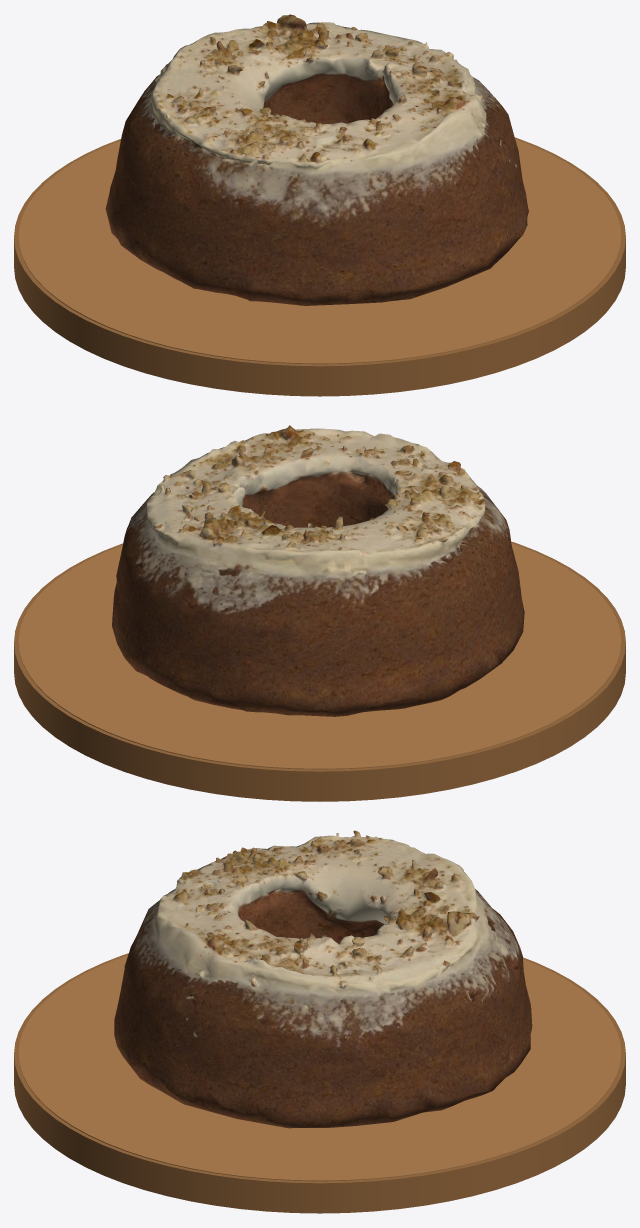
Rendered from torta-zanahoria.glb.
3 views of the same model, one above another, from view 1: azimuth 30°, elevation 25°; view 2: azimuth 150°, elevation 25°; view 3: azimuth 270°, elevation 25° (orthographic).
Parts seen in each view (by area): view 1: carrot_cake, object 3, object 2; view 2: carrot_cake, object 3, object 2; view 3: carrot_cake, object 3, object 2.
Boxes of the visible parts, left/top/right/bottom form: carrot_cake: left=105, top=14, right=528, bottom=305; object 3: left=18, top=139, right=621, bottom=364; object 2: left=14, top=137, right=625, bottom=396; carrot_cake: left=112, top=425, right=524, bottom=716; object 3: left=18, top=543, right=621, bottom=769; object 2: left=14, top=541, right=625, bottom=801; carrot_cake: left=114, top=830, right=532, bottom=1128; object 3: left=18, top=955, right=621, bottom=1181; object 2: left=14, top=953, right=625, bottom=1213.
Size of the model in its own units: 0.33 by 0.1159 by 0.33.
3 materials, 1 textured.
